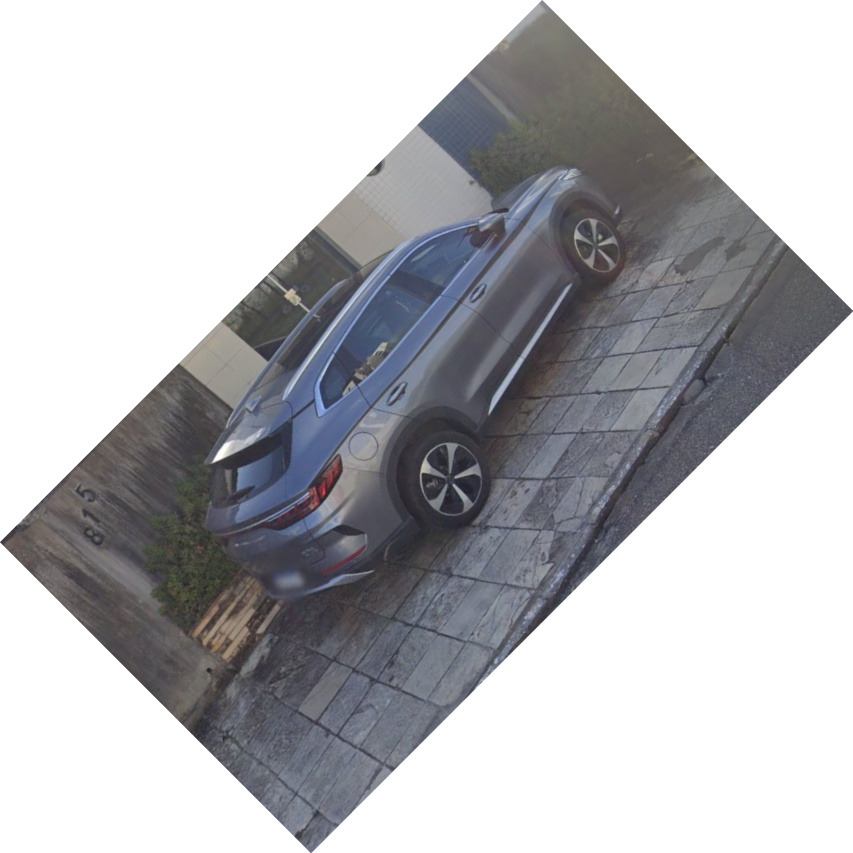car: (197, 159, 633, 610)
